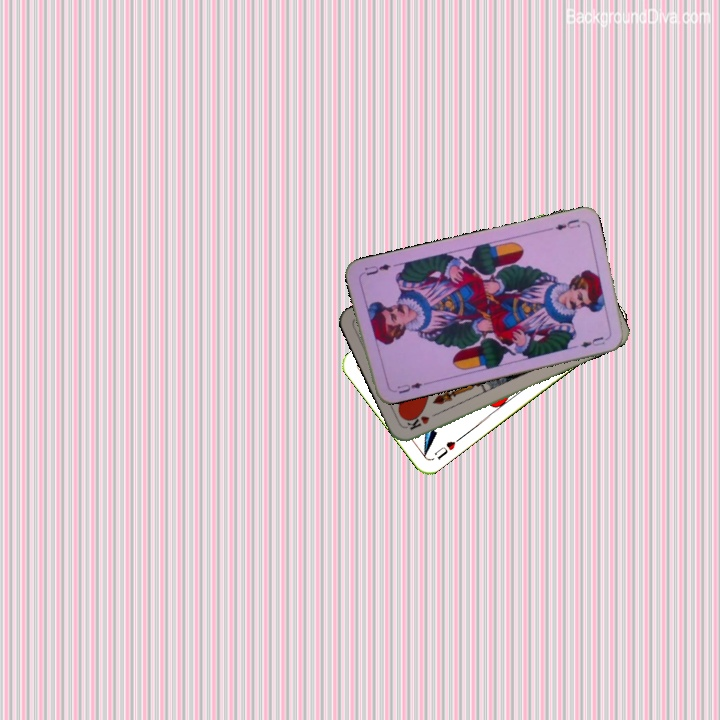EU: (387, 378, 427, 396), (551, 215, 583, 233)
HK: (403, 408, 442, 432)
HU: (430, 437, 458, 462)
